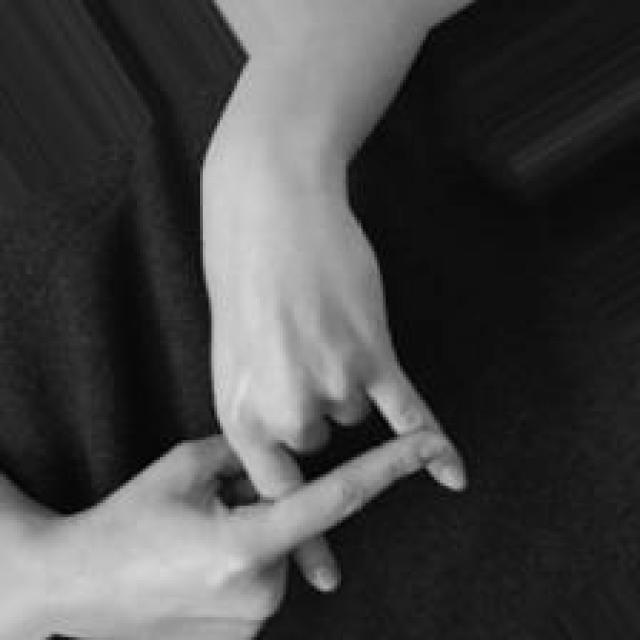H: (62, 245, 468, 640)
